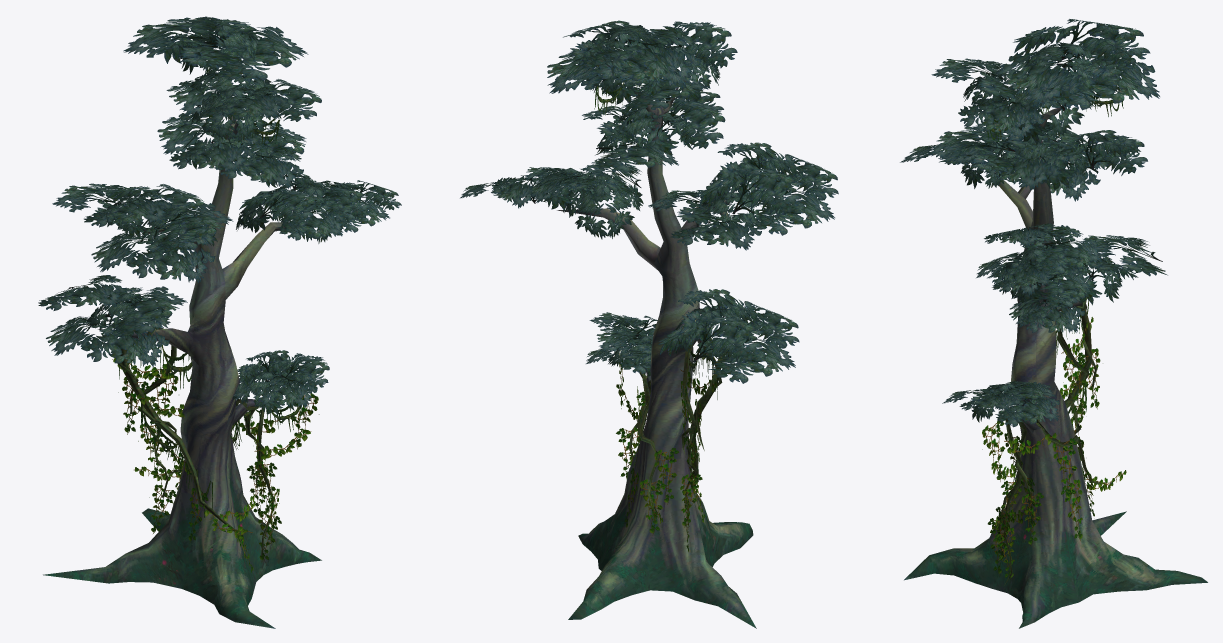
Rendered from environment_Tree_dashu_001_a.FBX.
The picture shows the model from 3 angles, left to right: view 1: azimuth 30°, elevation 25°; view 2: azimuth 150°, elevation 25°; view 3: azimuth 270°, elevation 25°; orthographic projection. The views are drawn at different scales.
Parts seen in each view (by area): view 1: environment_Tree_dashu_001_b, environment_Tree_dashu_001_a, environment_Tree_dashu_001_c, environment_Tree_dashu_001_e, environment_Tree_dashu_001_d; view 2: environment_Tree_dashu_001_b, environment_Tree_dashu_001_a, environment_Tree_dashu_001_c, environment_Tree_dashu_001_e, environment_Tree_dashu_001_d; view 3: environment_Tree_dashu_001_b, environment_Tree_dashu_001_a, environment_Tree_dashu_001_c, environment_Tree_dashu_001_e, environment_Tree_dashu_001_d.
Part boxes in pixels (x1,y1,x2,y2): environment_Tree_dashu_001_b: (38,16,401,414); environment_Tree_dashu_001_a: (43,74,321,628); environment_Tree_dashu_001_c: (112,358,319,572); environment_Tree_dashu_001_e: (118,327,274,565); environment_Tree_dashu_001_d: (119,66,304,517); environment_Tree_dashu_001_b: (460,20,838,383); environment_Tree_dashu_001_a: (557,86,756,628); environment_Tree_dashu_001_c: (616,350,717,551); environment_Tree_dashu_001_e: (629,334,723,529); environment_Tree_dashu_001_d: (594,79,721,483); environment_Tree_dashu_001_b: (900,19,1167,427); environment_Tree_dashu_001_a: (904,103,1207,628); environment_Tree_dashu_001_c: (982,317,1126,579); environment_Tree_dashu_001_e: (998,297,1108,585); environment_Tree_dashu_001_d: (987,86,1123,483).
Size of the model in its own units: 698 by 966 by 495.
Materials: 5 (5 with a texture image).
